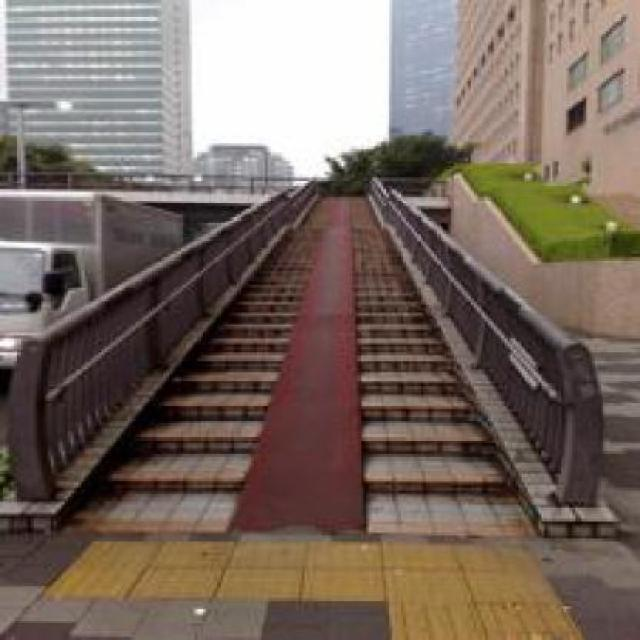stair: (112, 420, 525, 586)
